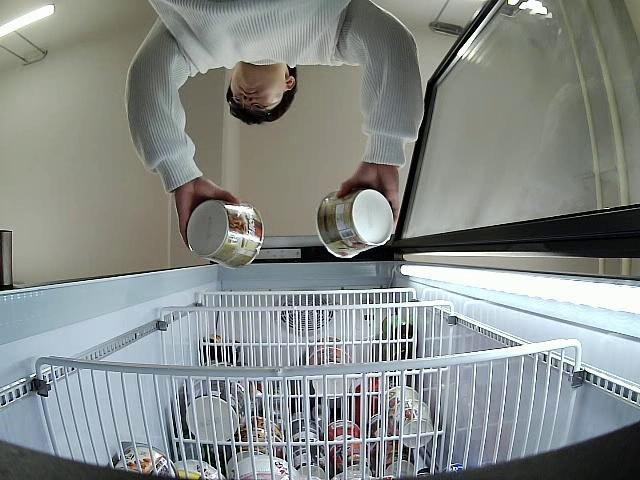03_chapagetti_L: (185, 199, 265, 270), (317, 188, 395, 258)
